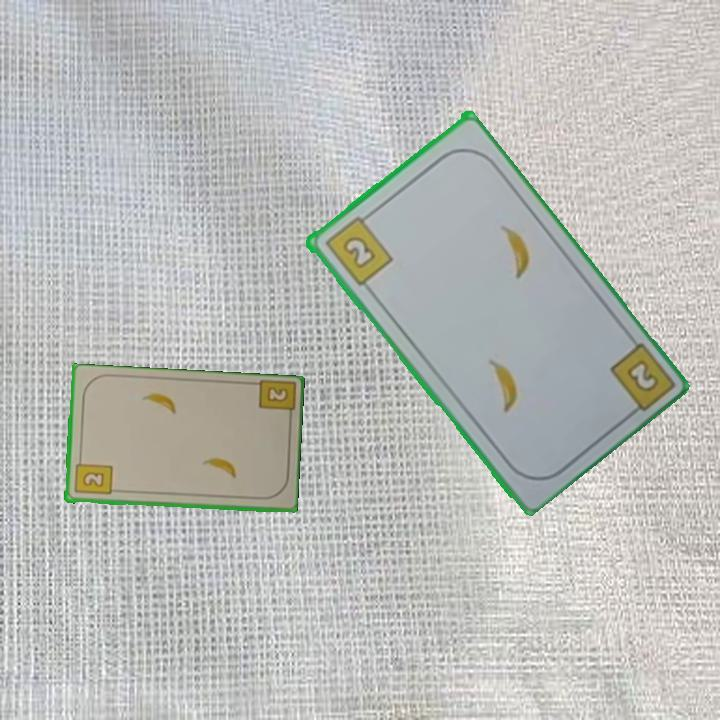2b: (321, 209, 395, 289), (254, 378, 296, 424), (71, 454, 114, 498), (622, 356, 662, 396)
